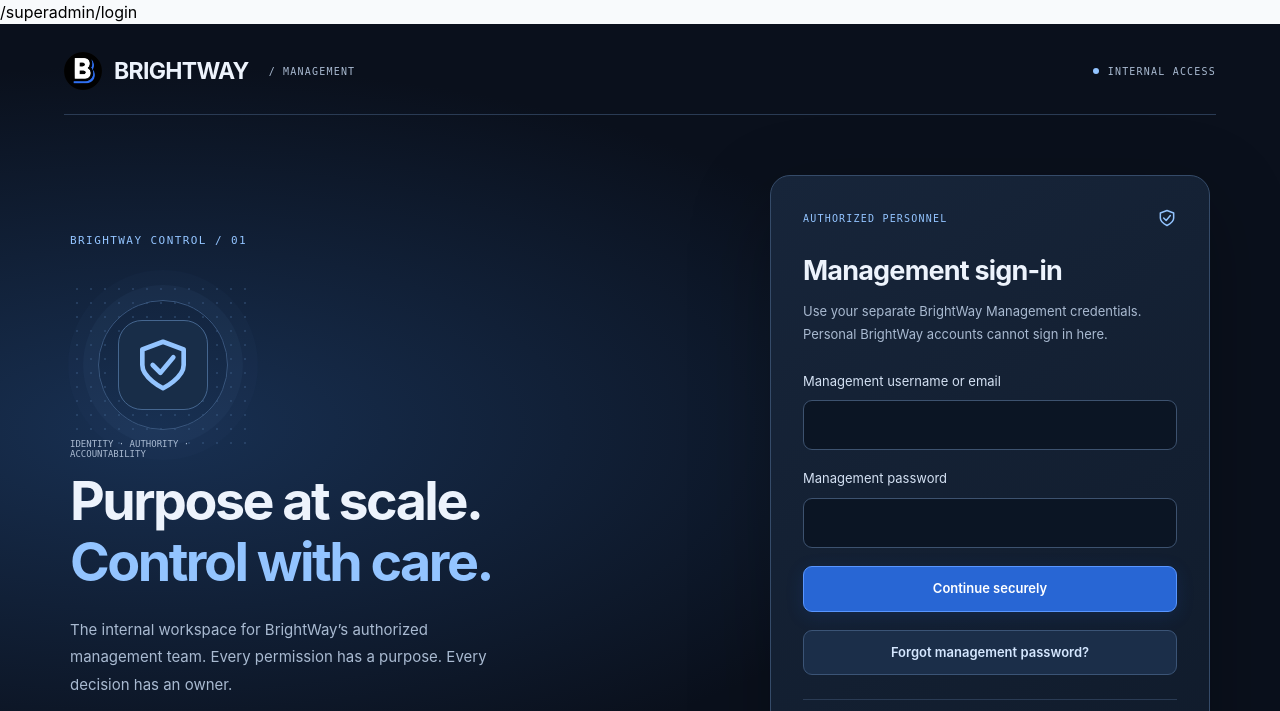
a wrong management MFA code retains the code without opening the workspace
In the field labelled "Management username or email": (990, 425) [803,400,1177,450], type " FOUNDER "
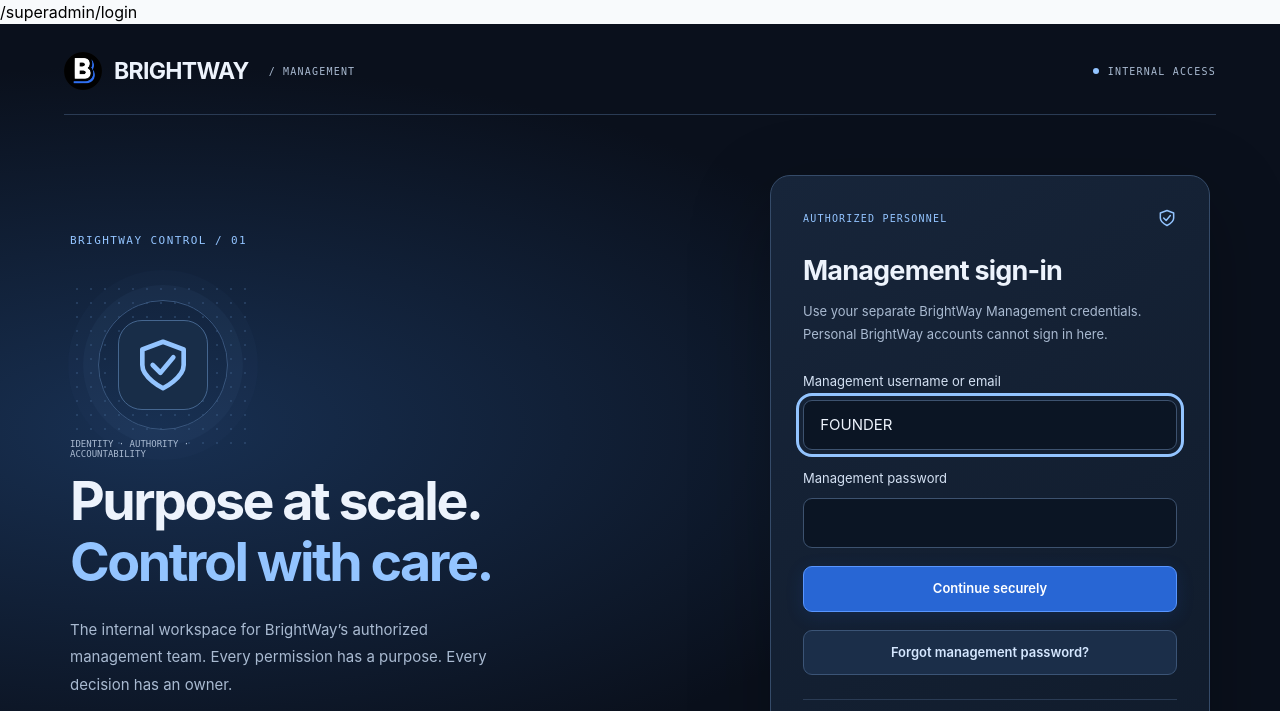
In the password field labelled "Management password": (990, 523) [803,498,1177,548], type " password with spaces "
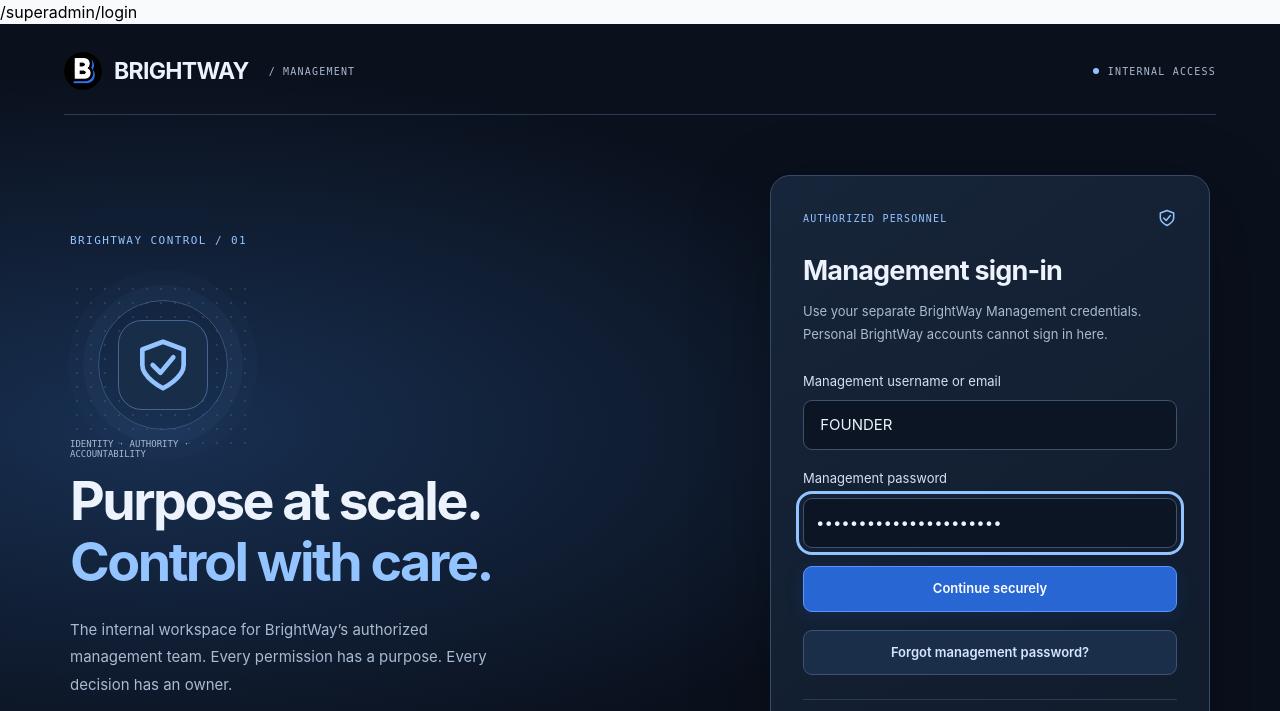
Click the button "Continue securely": (990, 589) [803,566,1177,612]
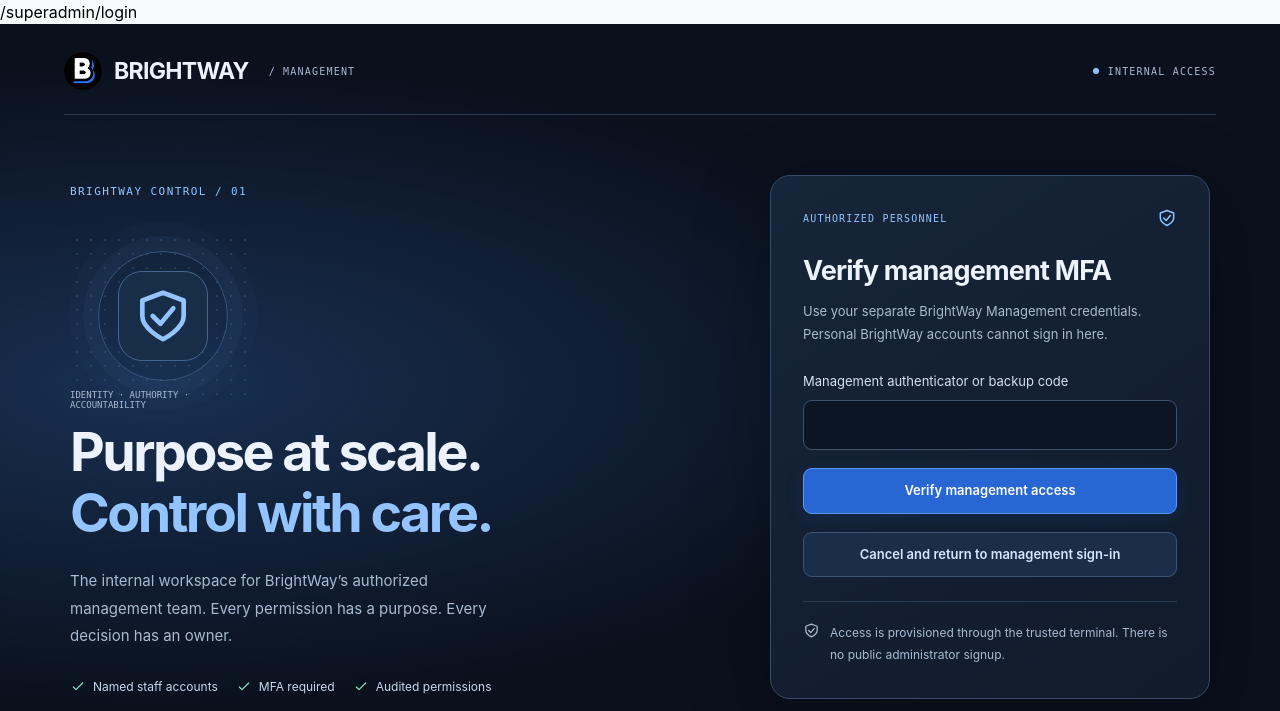
In the field labelled "Management authenticator or backup code": (990, 425) [803,400,1177,450], type "123456"
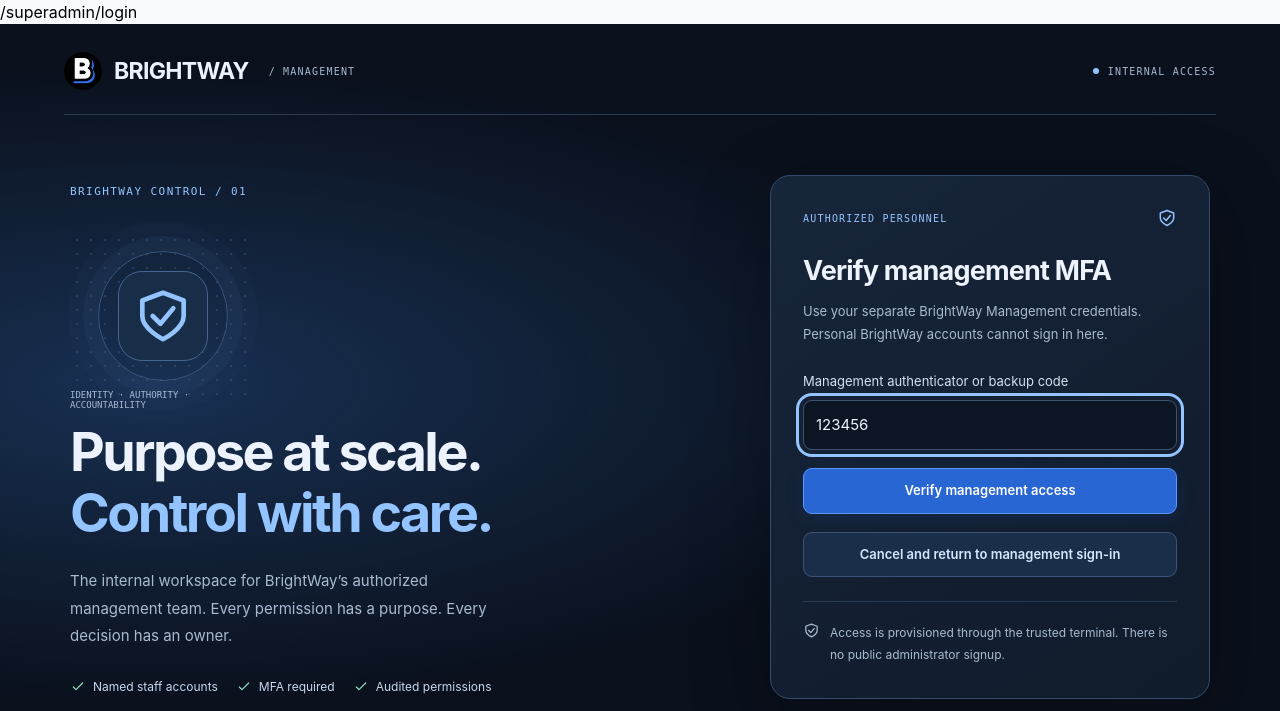
Click the button "Verify management access": (990, 491) [803,468,1177,514]
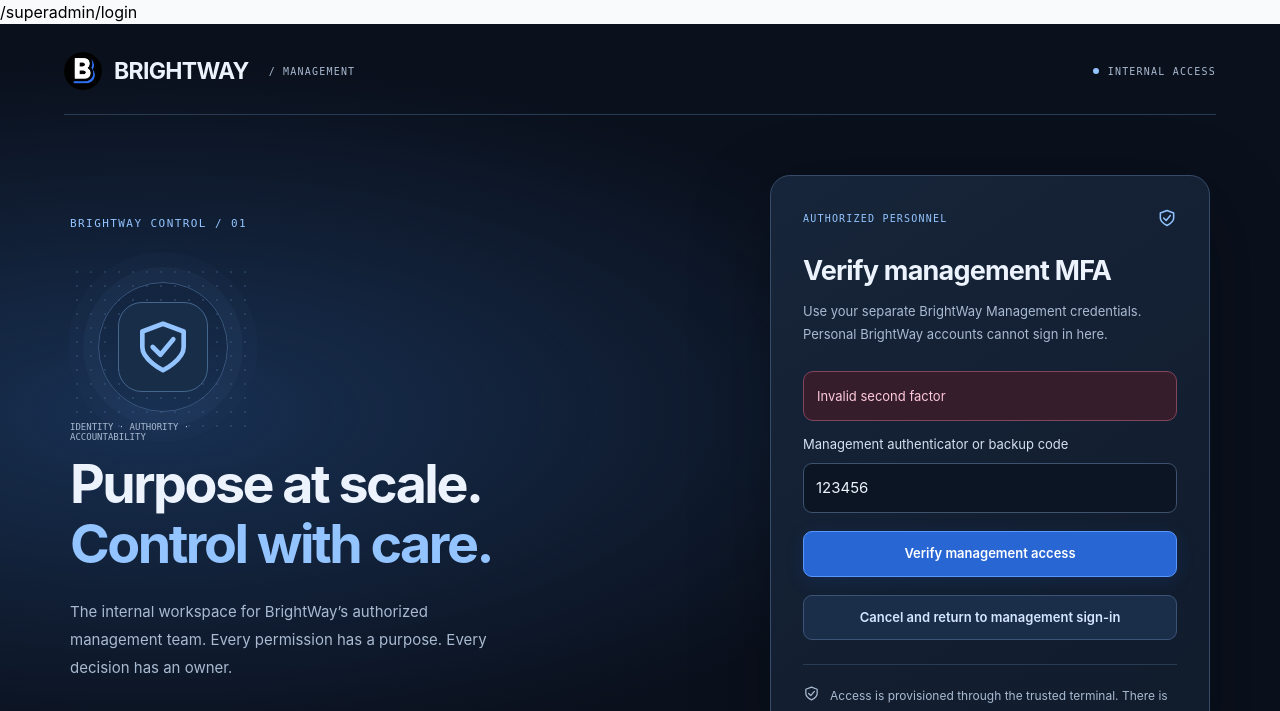
Now the message reads "Invalid second factor", box [817,388,946,404]
